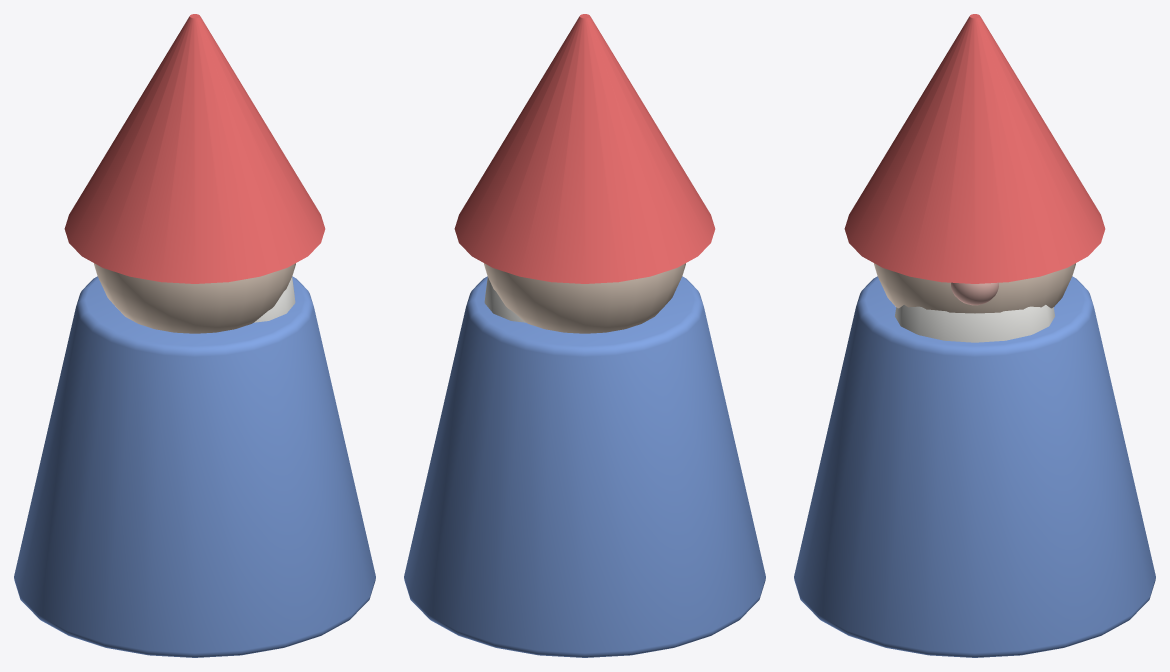
The model's file is gnome.fbx.
3 views of the same model, side by side, from view 1: azimuth 30°, elevation 25°; view 2: azimuth 150°, elevation 25°; view 3: azimuth 270°, elevation 25° (orthographic).
Visible parts, largest first — view 1: Cone; view 2: Cone; view 3: Cone.
Boxes of the visible parts, <box> form: Cone: <box>14,14,375,657</box>; Cone: <box>404,14,765,657</box>; Cone: <box>794,14,1155,657</box>.
Bounding box in the file's own units: 1.39 × 2.5 × 1.39.
